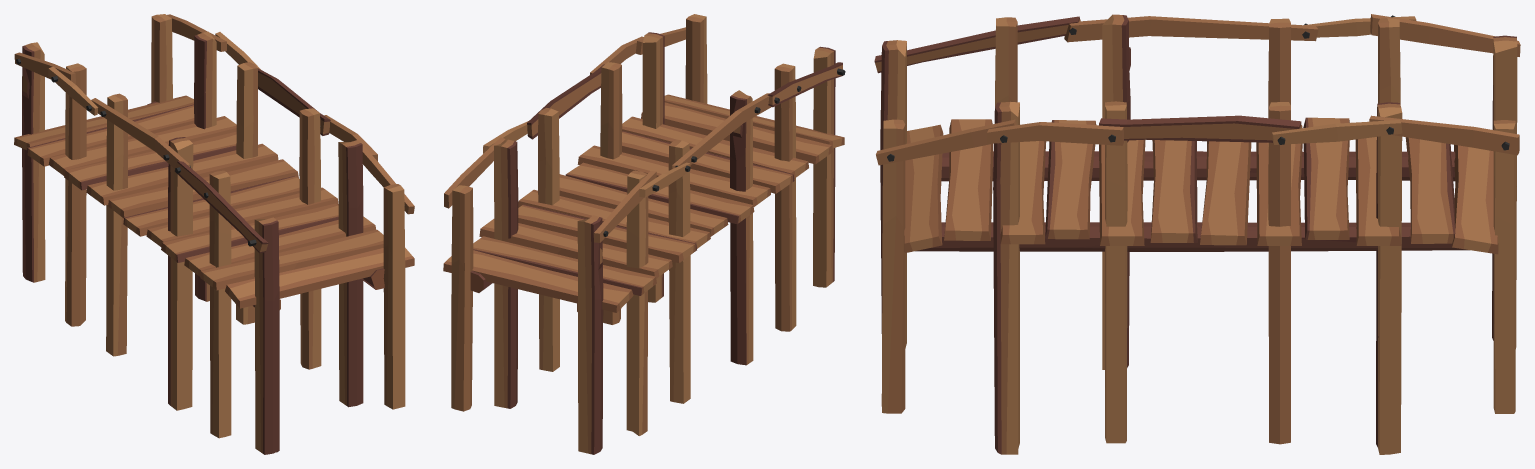
File: bridge_river.fbx
3 renders of one model, left to right at view 1: azimuth 30°, elevation 25°; view 2: azimuth 150°, elevation 25°; view 3: azimuth 270°, elevation 25°, orthographic. The views are drawn at different scales.
Visible parts, largest first — view 1: bridge_river; view 2: bridge_river; view 3: bridge_river.
Boxes of the visible parts, x1=… form: bridge_river: x1=14, y1=14, x2=414, y2=454; bridge_river: x1=443, y1=14, x2=845, y2=454; bridge_river: x1=874, y1=14, x2=1520, y2=454.
Size of the model in its own units: 115 by 161 by 271.
